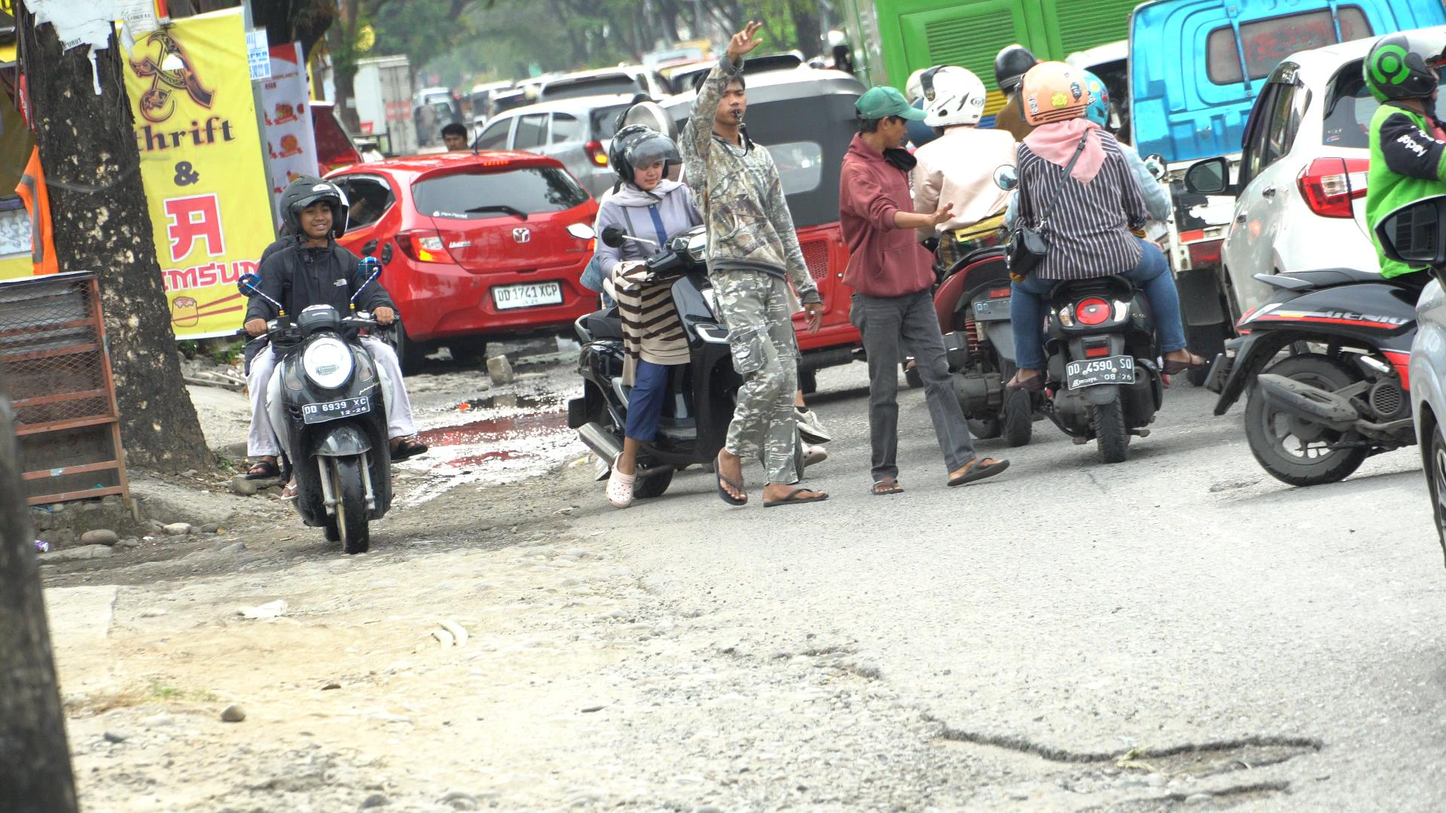number-plate: (304, 393, 372, 425)
